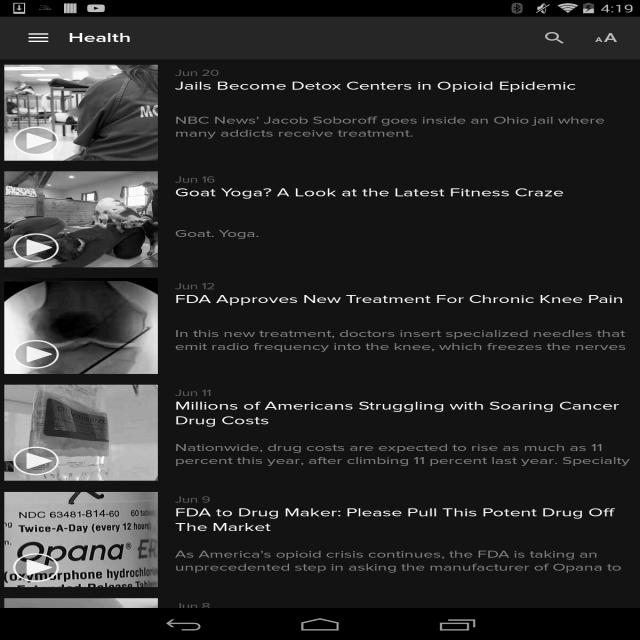ImageButton: (9, 17, 68, 59)
ImageView: (4, 64, 158, 160), (4, 172, 158, 268), (4, 278, 158, 374), (4, 384, 158, 480), (4, 492, 158, 588), (4, 598, 158, 640), (4, 121, 68, 161), (4, 441, 68, 481), (4, 228, 68, 267), (4, 335, 68, 374), (4, 548, 68, 587)
TextView: (175, 93, 636, 161), (175, 306, 636, 374), (175, 534, 636, 588), (175, 428, 636, 480), (175, 398, 636, 428), (175, 506, 636, 534), (175, 185, 636, 200), (175, 79, 636, 93), (175, 292, 636, 306), (175, 200, 259, 267), (68, 17, 131, 59), (580, 22, 632, 54), (529, 22, 580, 54), (175, 67, 219, 79), (175, 174, 215, 185), (175, 281, 215, 292), (175, 387, 211, 399), (175, 494, 211, 505), (175, 601, 210, 612)
